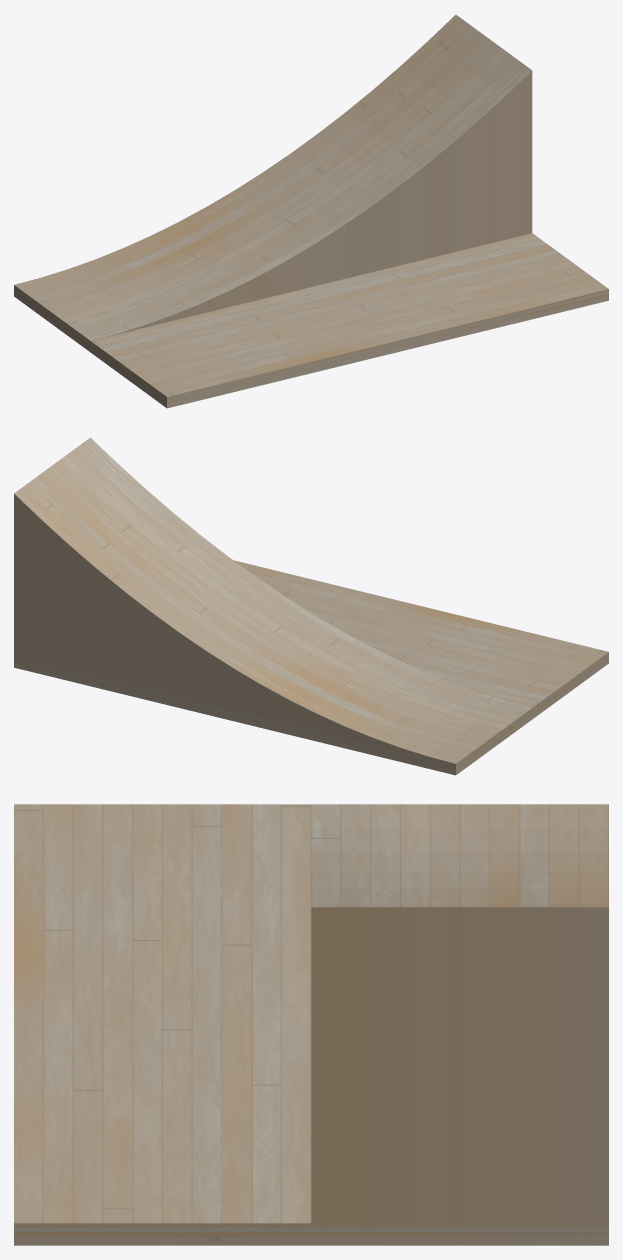
The model's file is @Tag.Ground.6.obj.
3 renders of one model, top to bottom at view 1: azimuth 30°, elevation 25°; view 2: azimuth 150°, elevation 25°; view 3: azimuth 270°, elevation 25°, orthographic. The views are drawn at different scales.
Visible parts, largest first — view 1: GroundSlopeL.001; view 2: GroundSlopeL.001; view 3: GroundSlopeL.001.
Boxes of the visible parts, x1,y1,x2,y2 form: GroundSlopeL.001: (14, 15, 608, 408); GroundSlopeL.001: (14, 437, 608, 775); GroundSlopeL.001: (14, 804, 608, 1245).
Size of the model in its own units: 80 by 30.13 by 48.
1 material, 1 textured.
